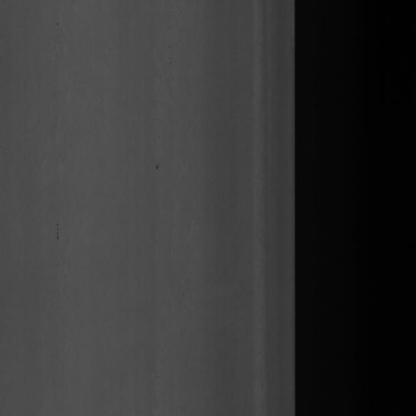inclusion: (52, 214, 64, 247), (153, 153, 161, 178)
